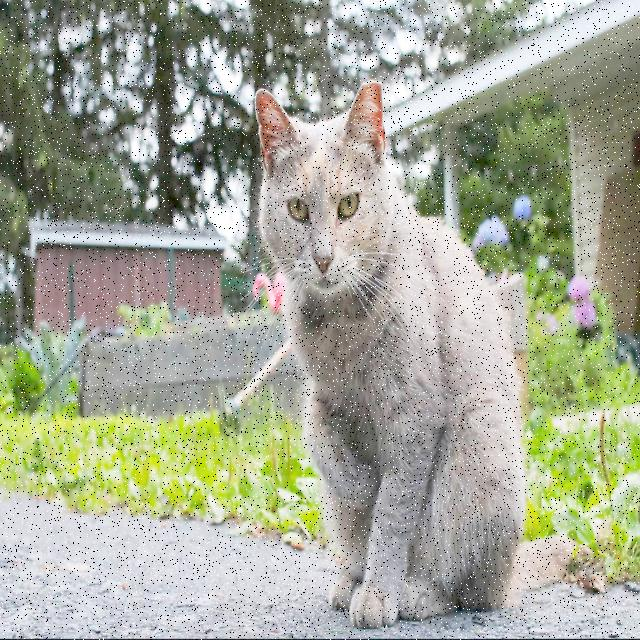cat: (256, 82, 575, 628)
